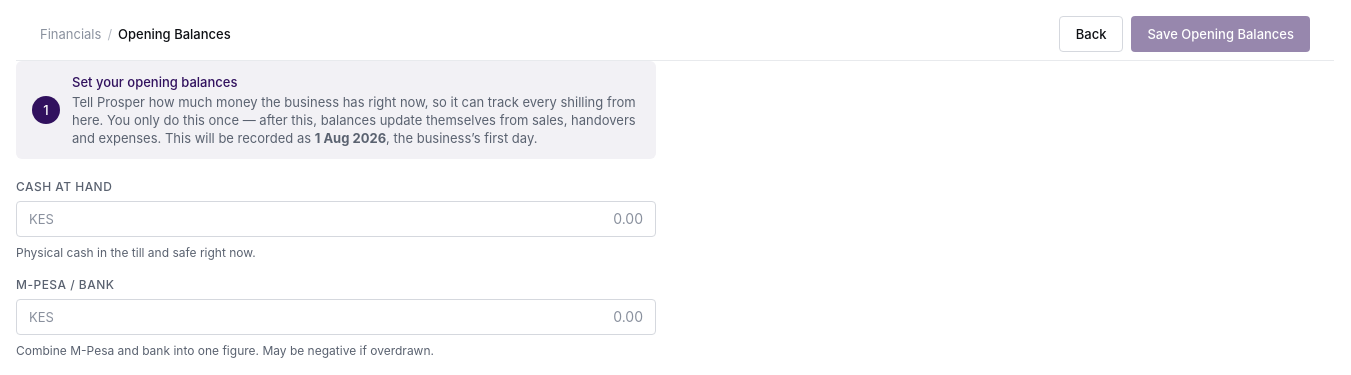
Test: /admin/financials/opening — first-time setup › keeps Save disabled until a valid amount is entered
The image size is (1351, 375).
expect the button "Save Opening Balances" is disabled: met, box [1132,16,1310,52]
Type "40000" into the field labelled "Cash at hand".
click(348, 219); type("40000")  # box [54,210,643,228]
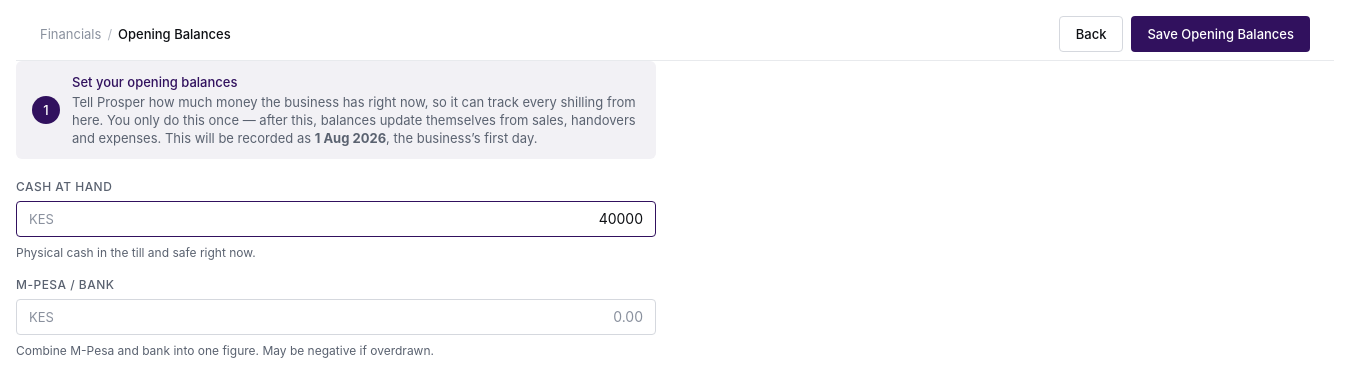
expect the button "Save Opening Balances" is enabled: met, box [1132,16,1310,52]
